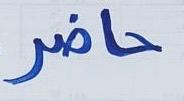alef: (95, 4, 120, 63)
jeem: (121, 26, 166, 63)
qaf: (49, 10, 93, 62)
reh: (6, 37, 48, 87)
